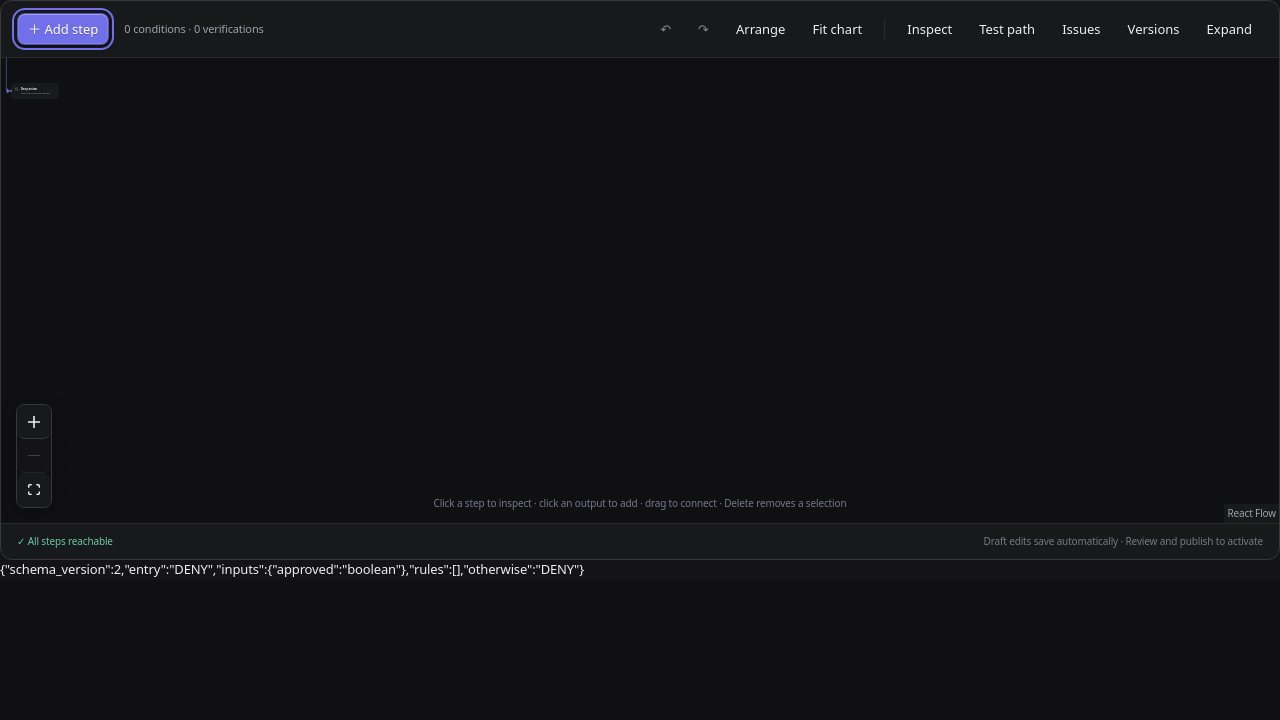
it: workflow authoring › keeps terminal-node selection separate from entry editing
Click the button "Inspect" at [930, 29], box [896,13,963,45]
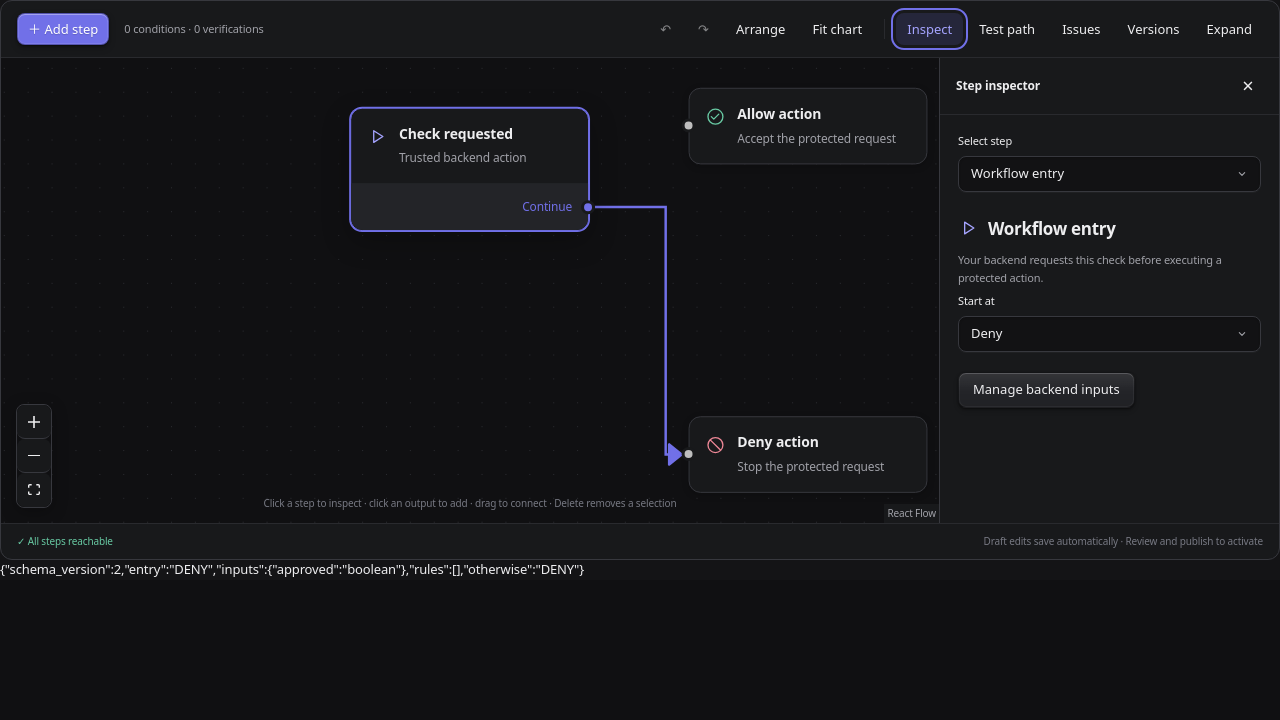
Select "Allow action" in the dropdown labelled "Select step" at [1110, 174], box [958,156,1261,192]
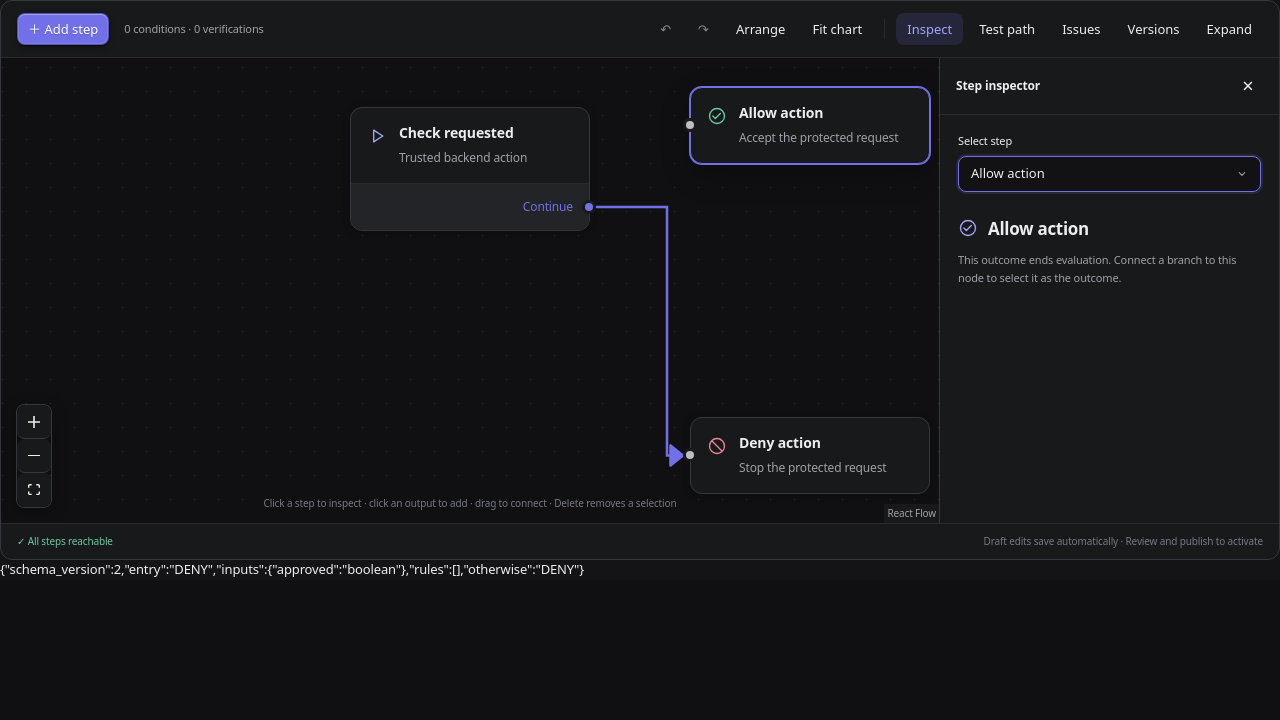
Expected: the heading "Allow action" is shown, [988,216,1089,241]
Expected: the label labelled "Start at" is gone
Select "Deny action" in the dropdown labelled "Select step" at [1110, 174], box [958,156,1261,192]
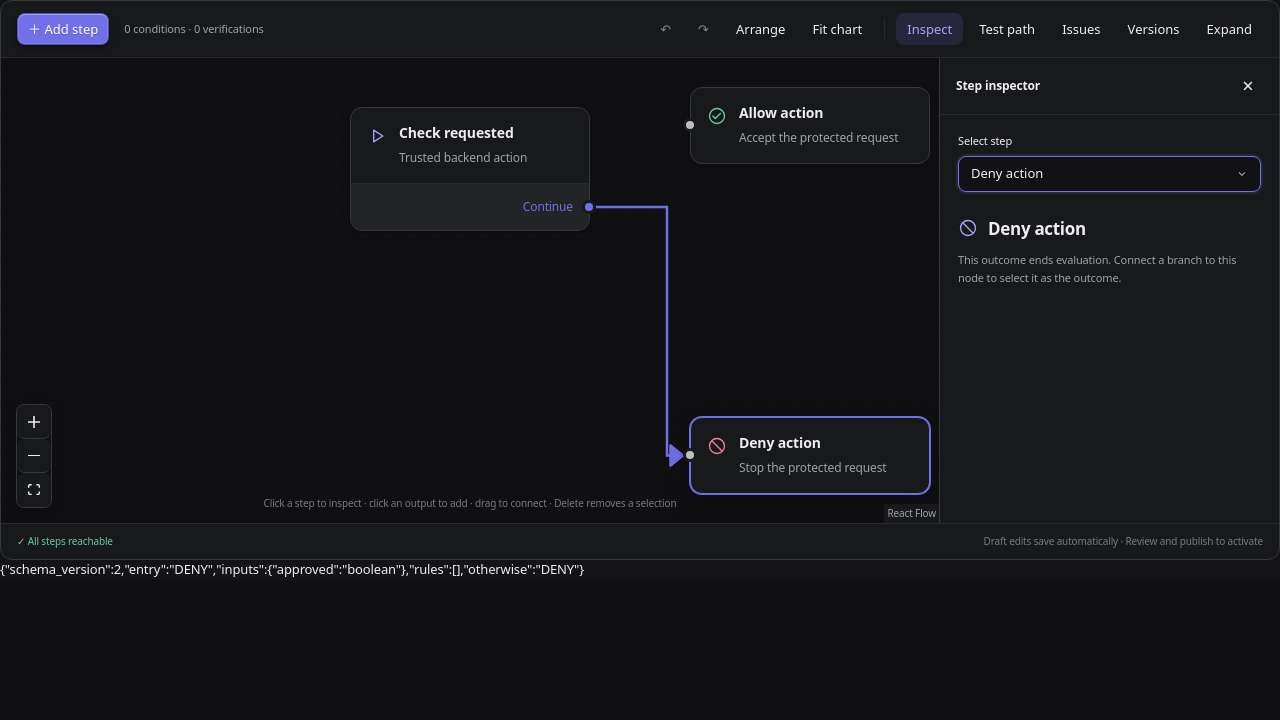
Expected: the label labelled "Start at" is not shown
Expected: the heading "Deny action" is shown, [988,216,1086,241]
Select "Workflow entry" in the dropdown labelled "Select step" at [1110, 174], box [958,156,1261,192]
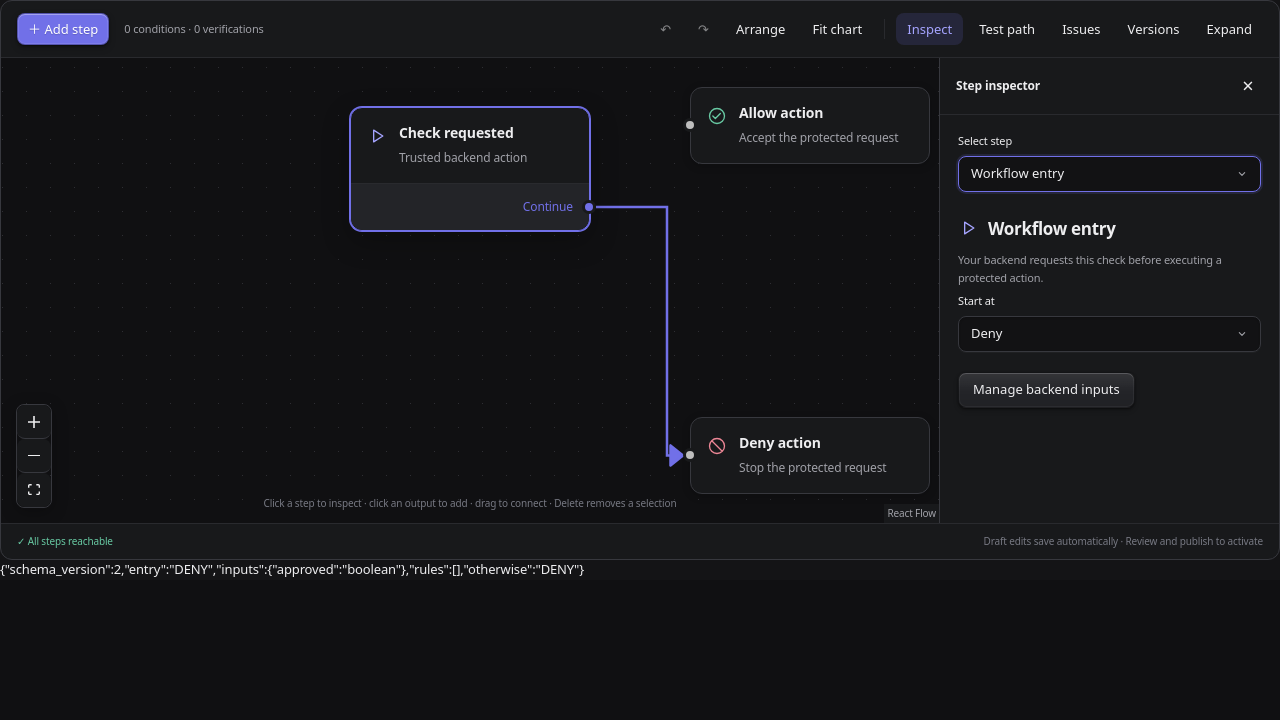
Expected: the dropdown labelled "Start at" is shown, [958,316,1261,352]
